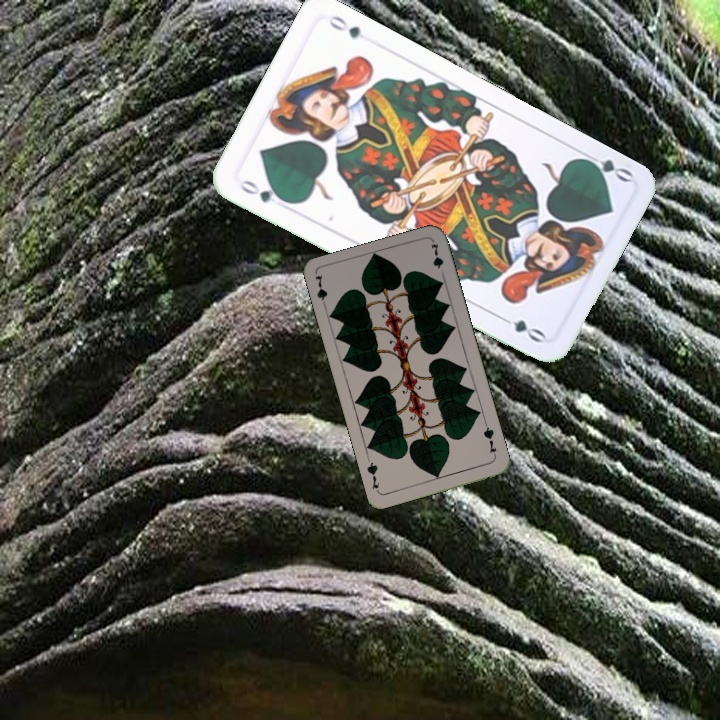G7: (479, 420, 499, 460), (311, 271, 330, 312)
GO: (577, 147, 635, 185), (235, 175, 291, 206)
